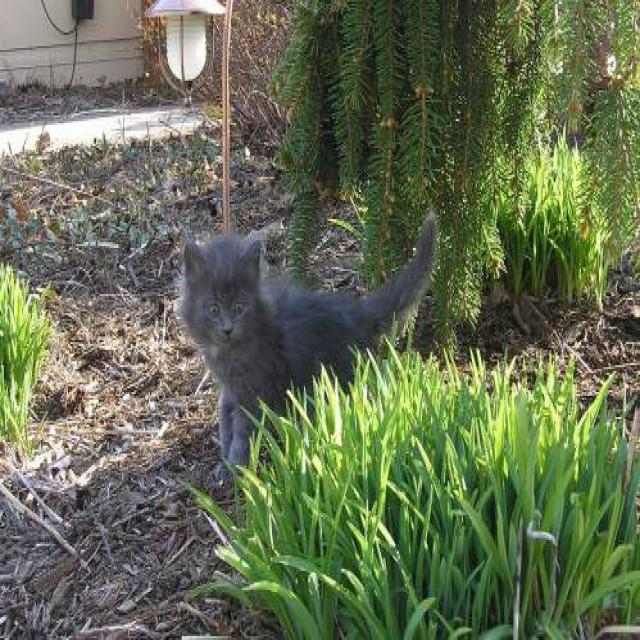cat: (175, 207, 438, 478)
